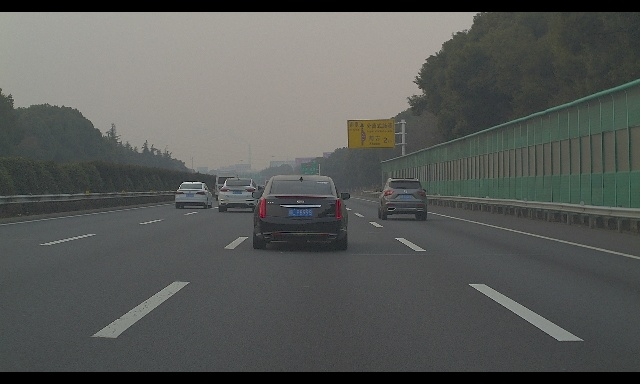car: (251, 175, 350, 250), (376, 178, 427, 221), (218, 178, 262, 212), (175, 182, 214, 209), (215, 172, 241, 201), (263, 180, 277, 196), (257, 180, 269, 193)
